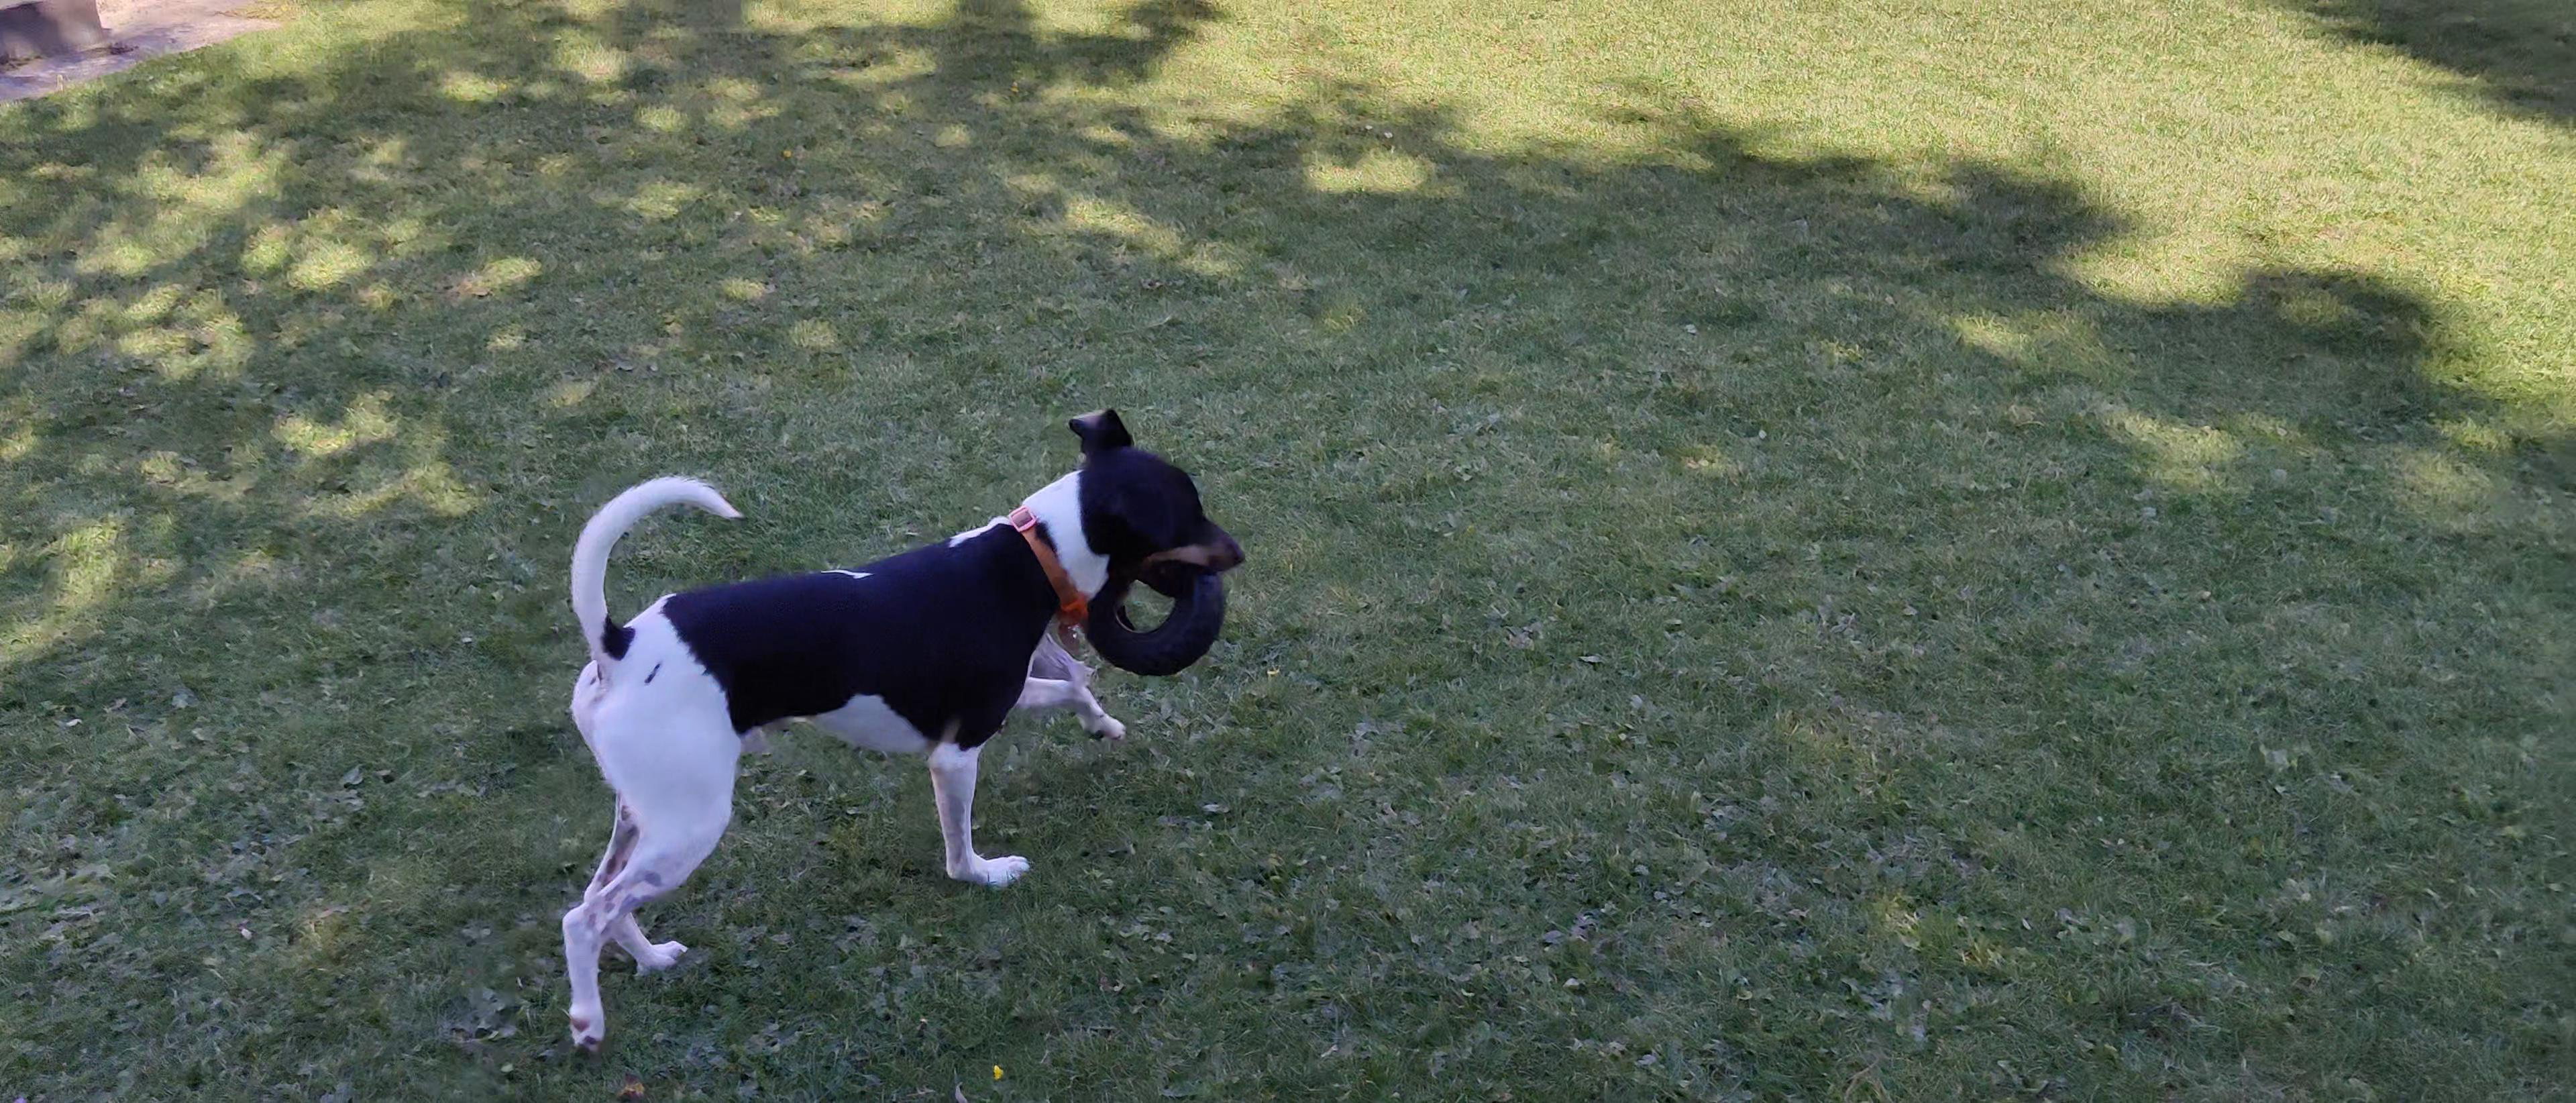Dog: (545, 390, 1262, 1052)
